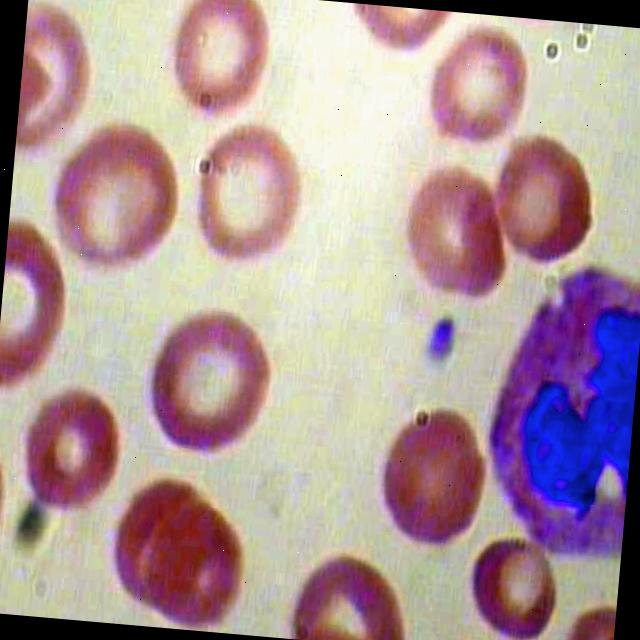Platelets: (421, 298, 468, 371)
RBC: (40, 110, 186, 270), (179, 112, 313, 270), (359, 403, 493, 561), (147, 303, 280, 461), (393, 150, 516, 306), (478, 126, 601, 282), (414, 18, 541, 164), (9, 376, 136, 521), (89, 476, 216, 621), (132, 496, 258, 635), (151, 0, 284, 131), (0, 212, 78, 396), (14, 14, 101, 155), (462, 525, 561, 640)
WBC: (476, 240, 640, 564)
